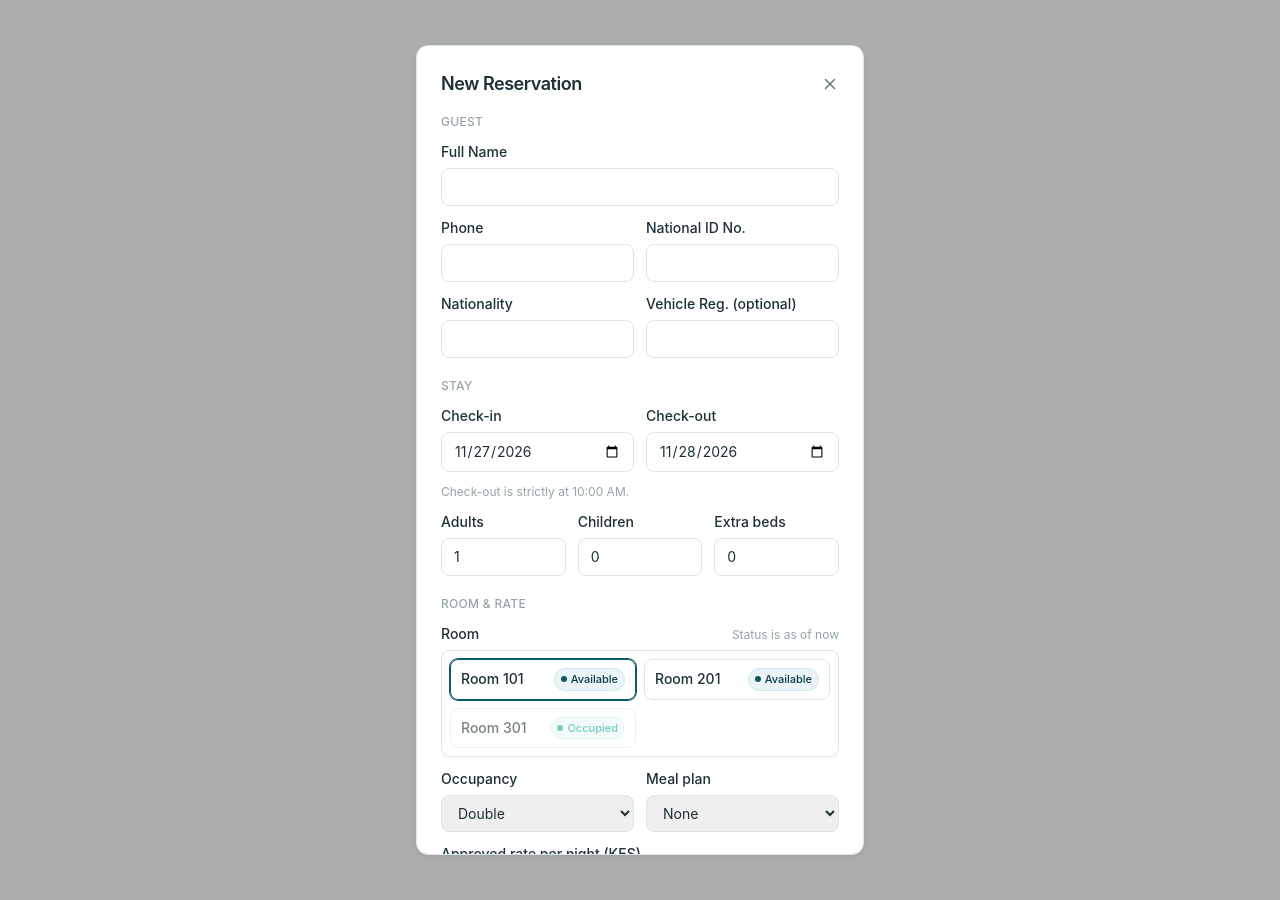
Test case: CreateReservationModal pricing › re-quotes when the meal plan changes and shows the meal charge
Step 1. Select "Half Board" in the dropdown with test id "meal-plan-select" → (742, 814), box [646,795,839,832]
(page scrolled)
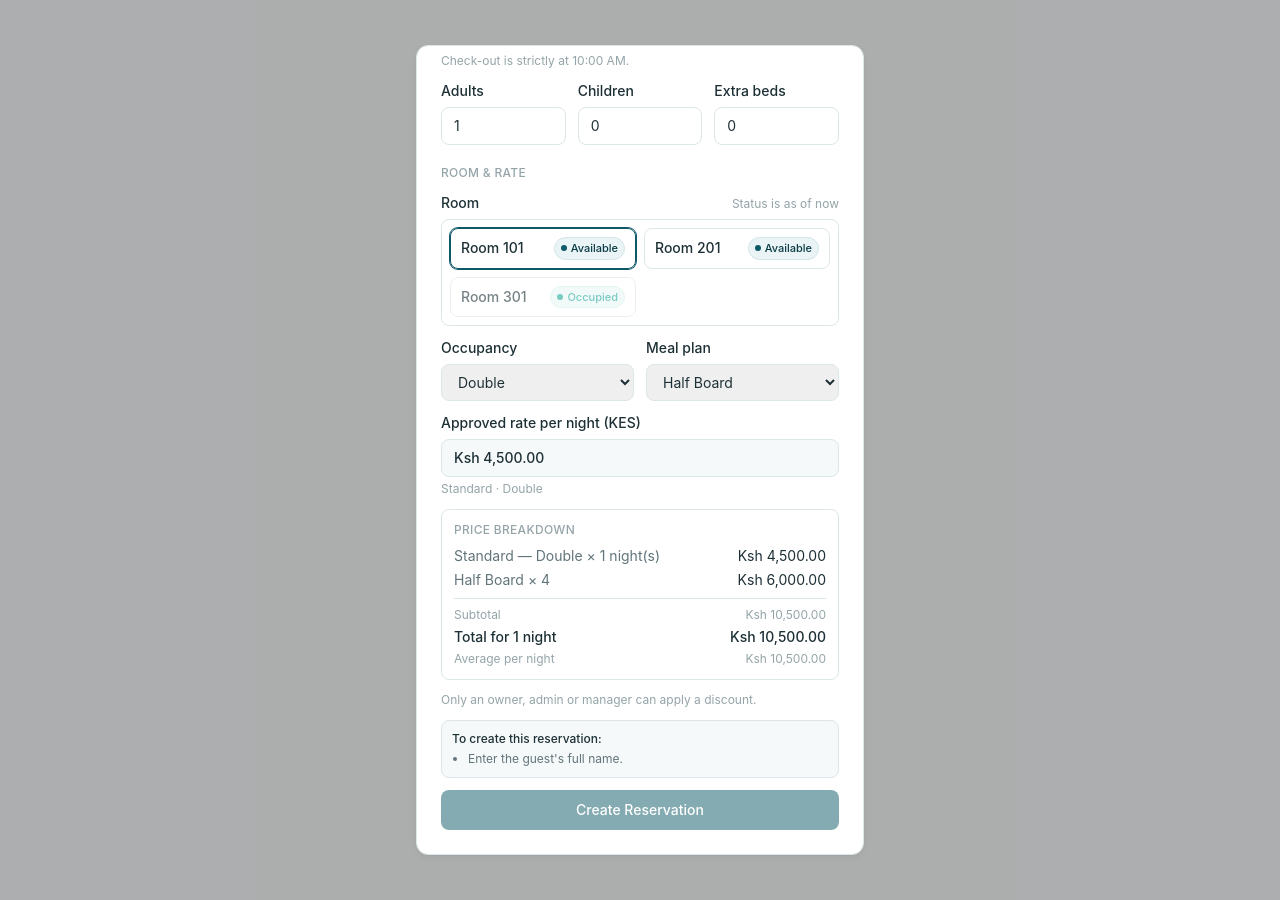
Now the text with test id "price-total" shows "10,500", box [730,628,826,645]
